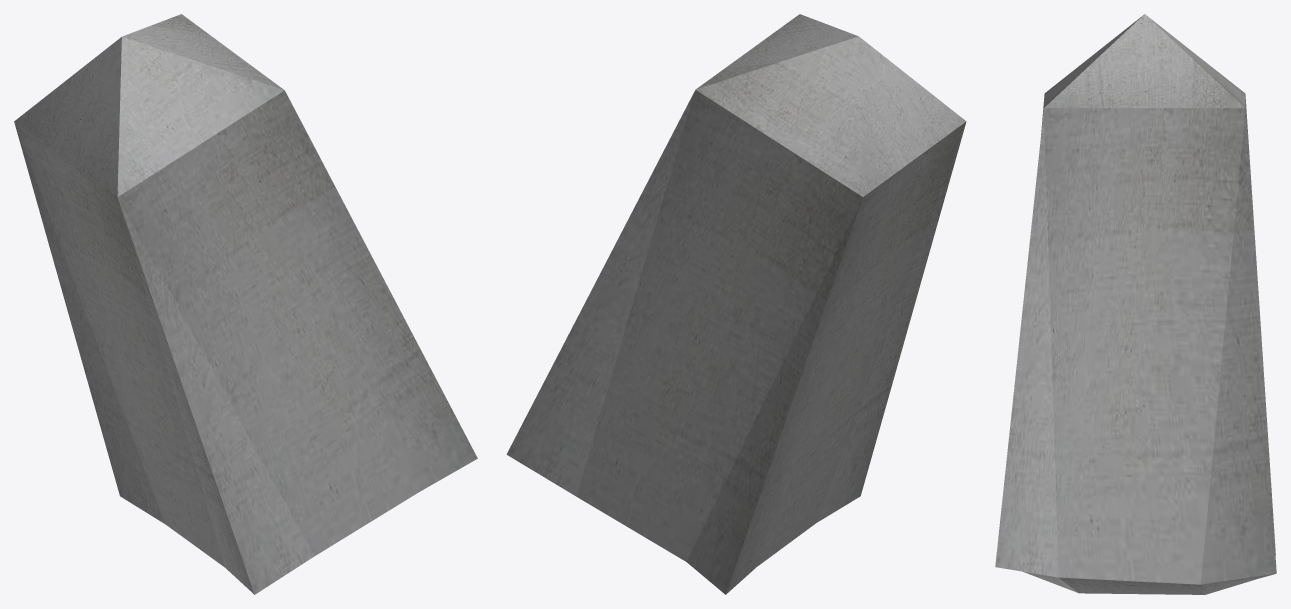
File: rocket1.dae
3 renders of one model, left to right at view 1: azimuth 30°, elevation 25°; view 2: azimuth 150°, elevation 25°; view 3: azimuth 270°, elevation 25°, orthographic. The views are drawn at different scales.
Visible parts, largest first — view 1: rocket.4; view 2: rocket.4; view 3: rocket.4.
Part boxes in pixels (x1,y1,x2,y2): rocket.4: (14,14,477,594); rocket.4: (506,14,966,594); rocket.4: (995,14,1276,594).
Bounding box in the file's own units: 42.71 × 63.19 × 31.51.
Materials: 1 (1 with a texture image).
